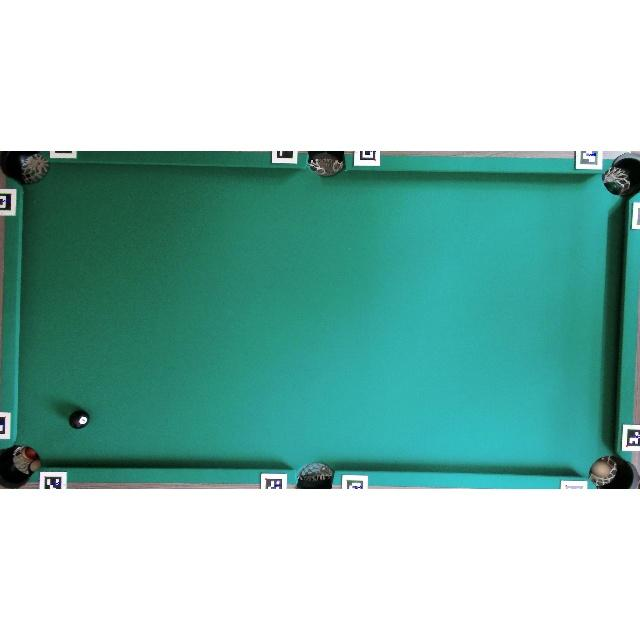other: (68, 409, 90, 429)
